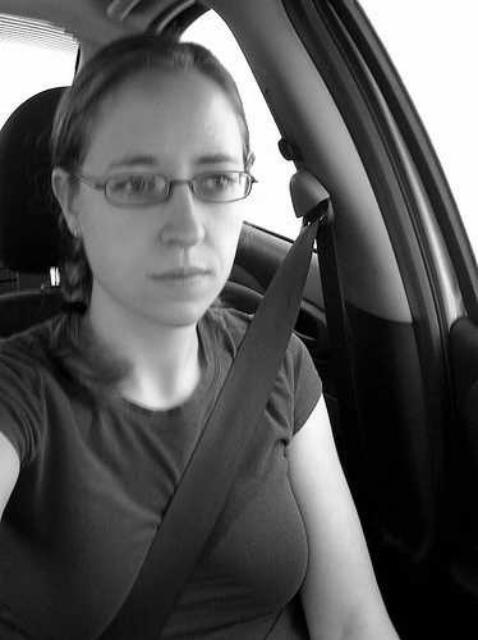SafeDriving: (108, 161, 164, 204), (190, 158, 239, 198)
Seatbelt: (99, 168, 338, 640)
